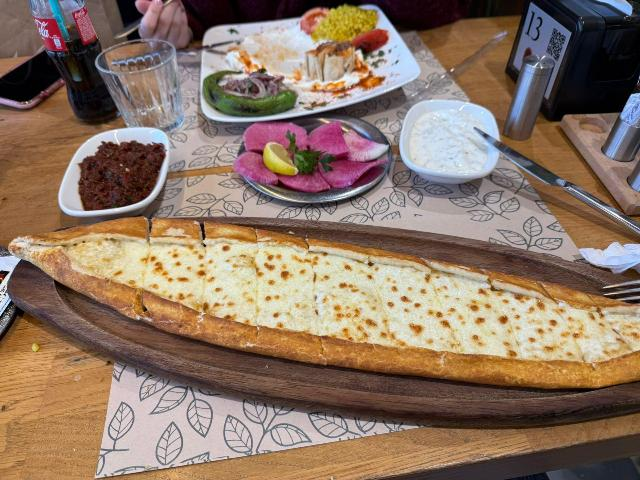Cam: (40, 1, 105, 121), (109, 37, 187, 132)
Organik: (6, 223, 156, 302), (202, 225, 259, 343), (207, 65, 292, 120), (88, 147, 143, 204), (429, 119, 463, 170), (262, 143, 298, 181), (297, 143, 335, 177)
